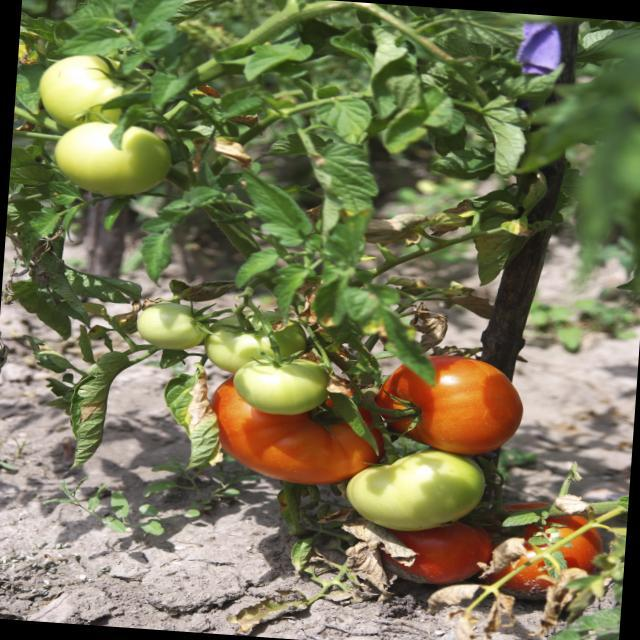TOMATO: (190, 379, 384, 485), (384, 349, 520, 456), (339, 446, 492, 536), (351, 520, 502, 600), (491, 511, 605, 605), (232, 348, 342, 428), (40, 119, 156, 192), (36, 40, 146, 116)
